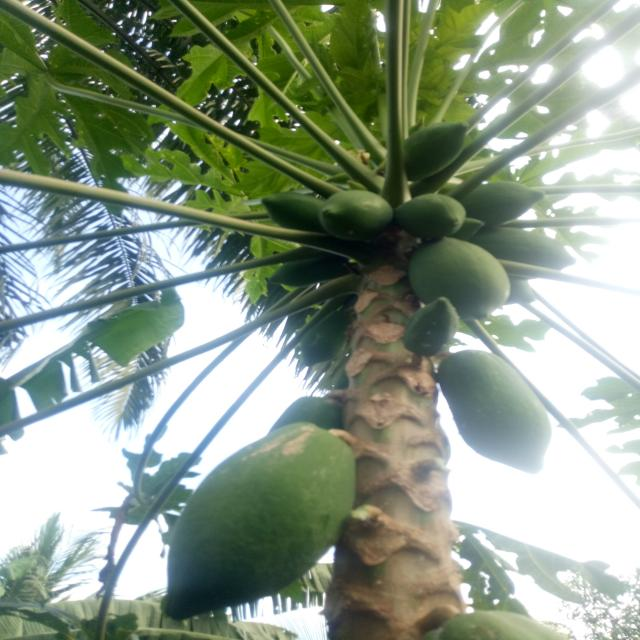Pepaya unrippen: (171, 427, 354, 622), (435, 350, 555, 480), (417, 239, 508, 324)
